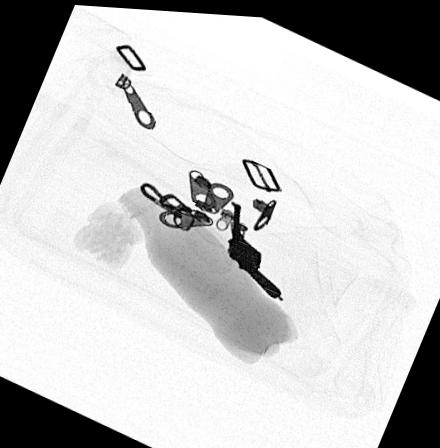Gun: (225, 197, 280, 295)
